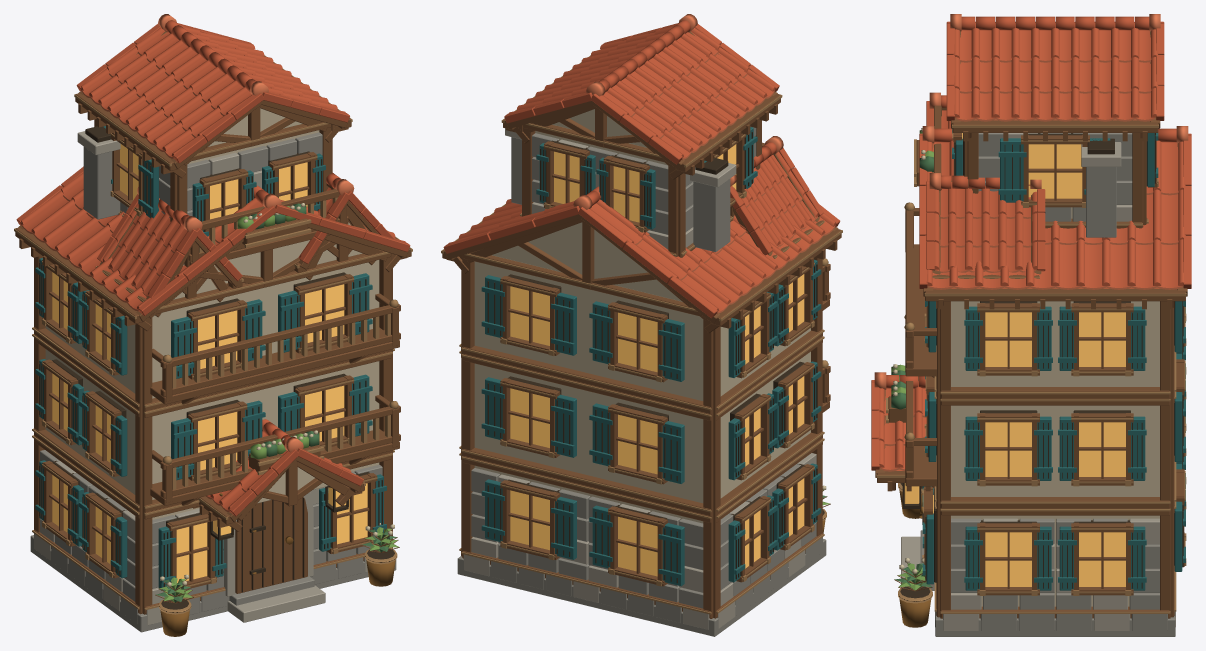
3 views of the same model, side by side, from view 1: azimuth 30°, elevation 25°; view 2: azimuth 150°, elevation 25°; view 3: azimuth 270°, elevation 25° (orthographic). The views are drawn at different scales.
Parts seen in each view (by area): view 1: alpine_hotel_3_geometry, alpine_hotel_3_geometry ceramic; view 2: alpine_hotel_3_geometry, alpine_hotel_3_geometry ceramic; view 3: alpine_hotel_3_geometry, alpine_hotel_3_geometry ceramic.
Boxes of the visible parts, x1=… form: alpine_hotel_3_geometry: x1=14, y1=31, x2=412, y2=636; alpine_hotel_3_geometry ceramic: x1=16, y1=14, x2=410, y2=516; alpine_hotel_3_geometry: x1=441, y1=31, x2=842, y2=636; alpine_hotel_3_geometry ceramic: x1=443, y1=14, x2=840, y2=318; alpine_hotel_3_geometry: x1=875, y1=31, x2=1187, y2=636; alpine_hotel_3_geometry ceramic: x1=871, y1=14, x2=1191, y2=471.
Bounding box in the file's own units: 0.99 × 1.73 × 0.9033.
